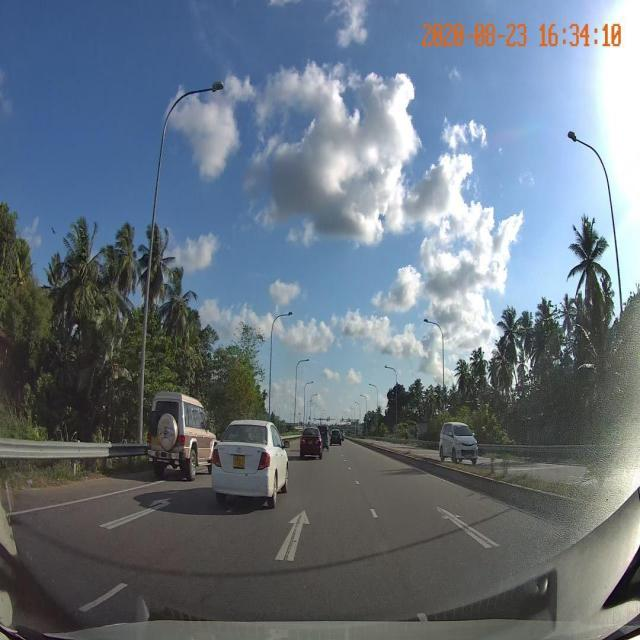Liniya 1: (7, 476, 168, 519), (74, 576, 133, 618), (366, 507, 381, 520)
Strelka vlevo: (98, 499, 174, 530)
Strelka vpered: (437, 507, 499, 548), (274, 510, 309, 563)
